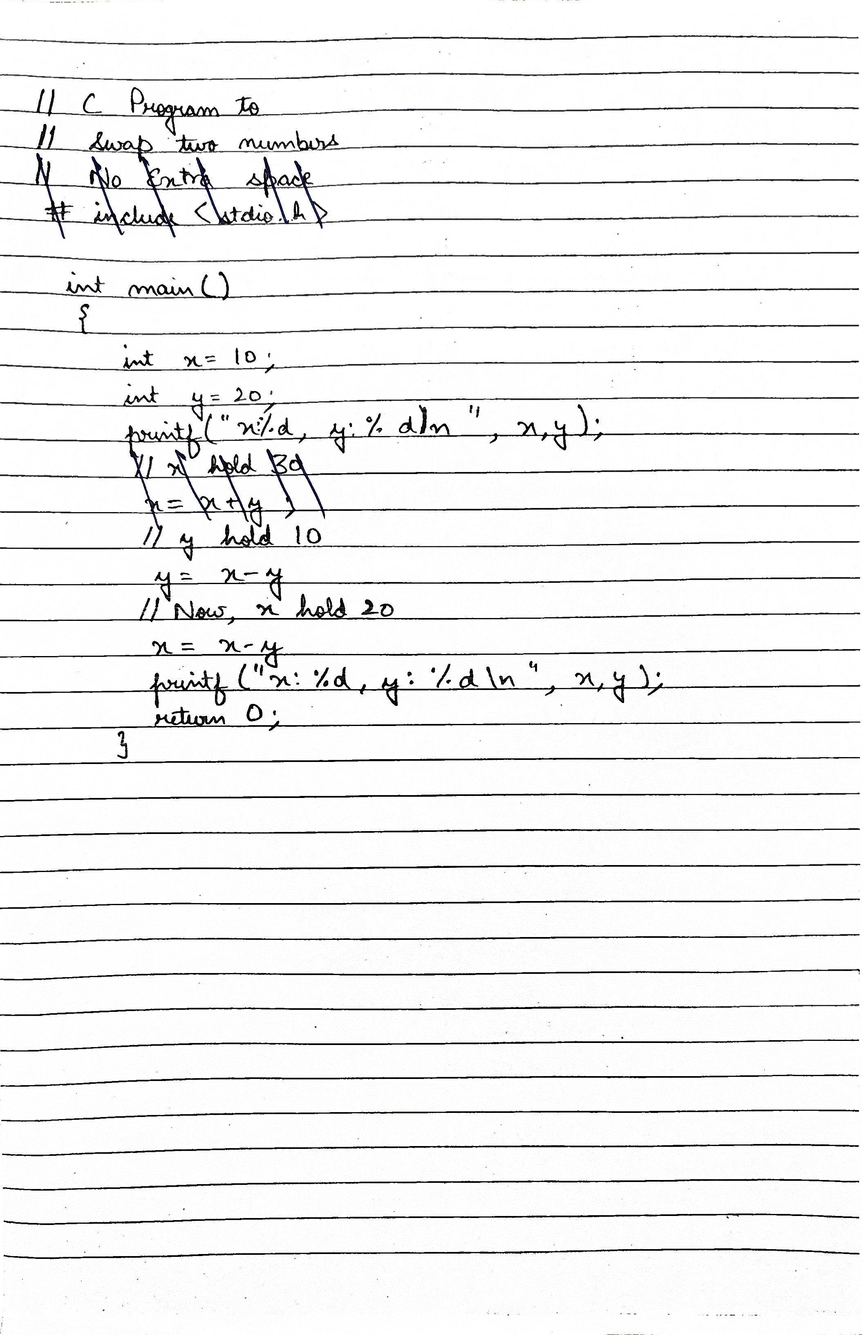cuttings: (32, 150, 330, 236), (130, 448, 328, 529)
